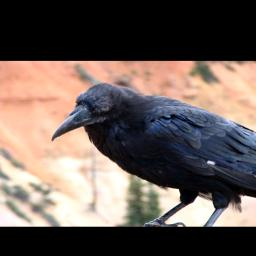Crow: (50, 79, 256, 226)
